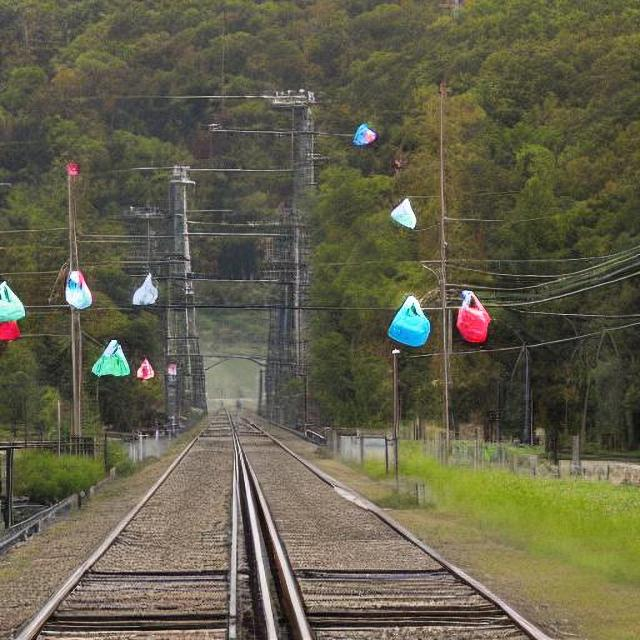floating object: (387, 293, 431, 350), (454, 288, 494, 343), (89, 339, 131, 380), (0, 280, 26, 334), (64, 267, 94, 310), (389, 196, 421, 230), (130, 270, 158, 306), (348, 119, 381, 148)
